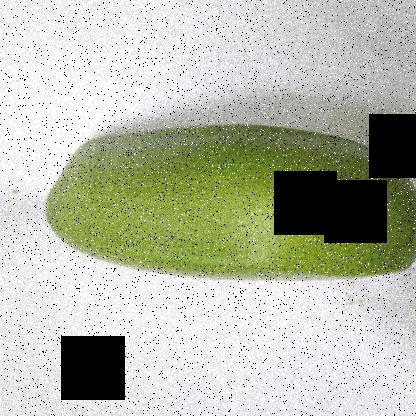freshunripe: (37, 108, 415, 306)
